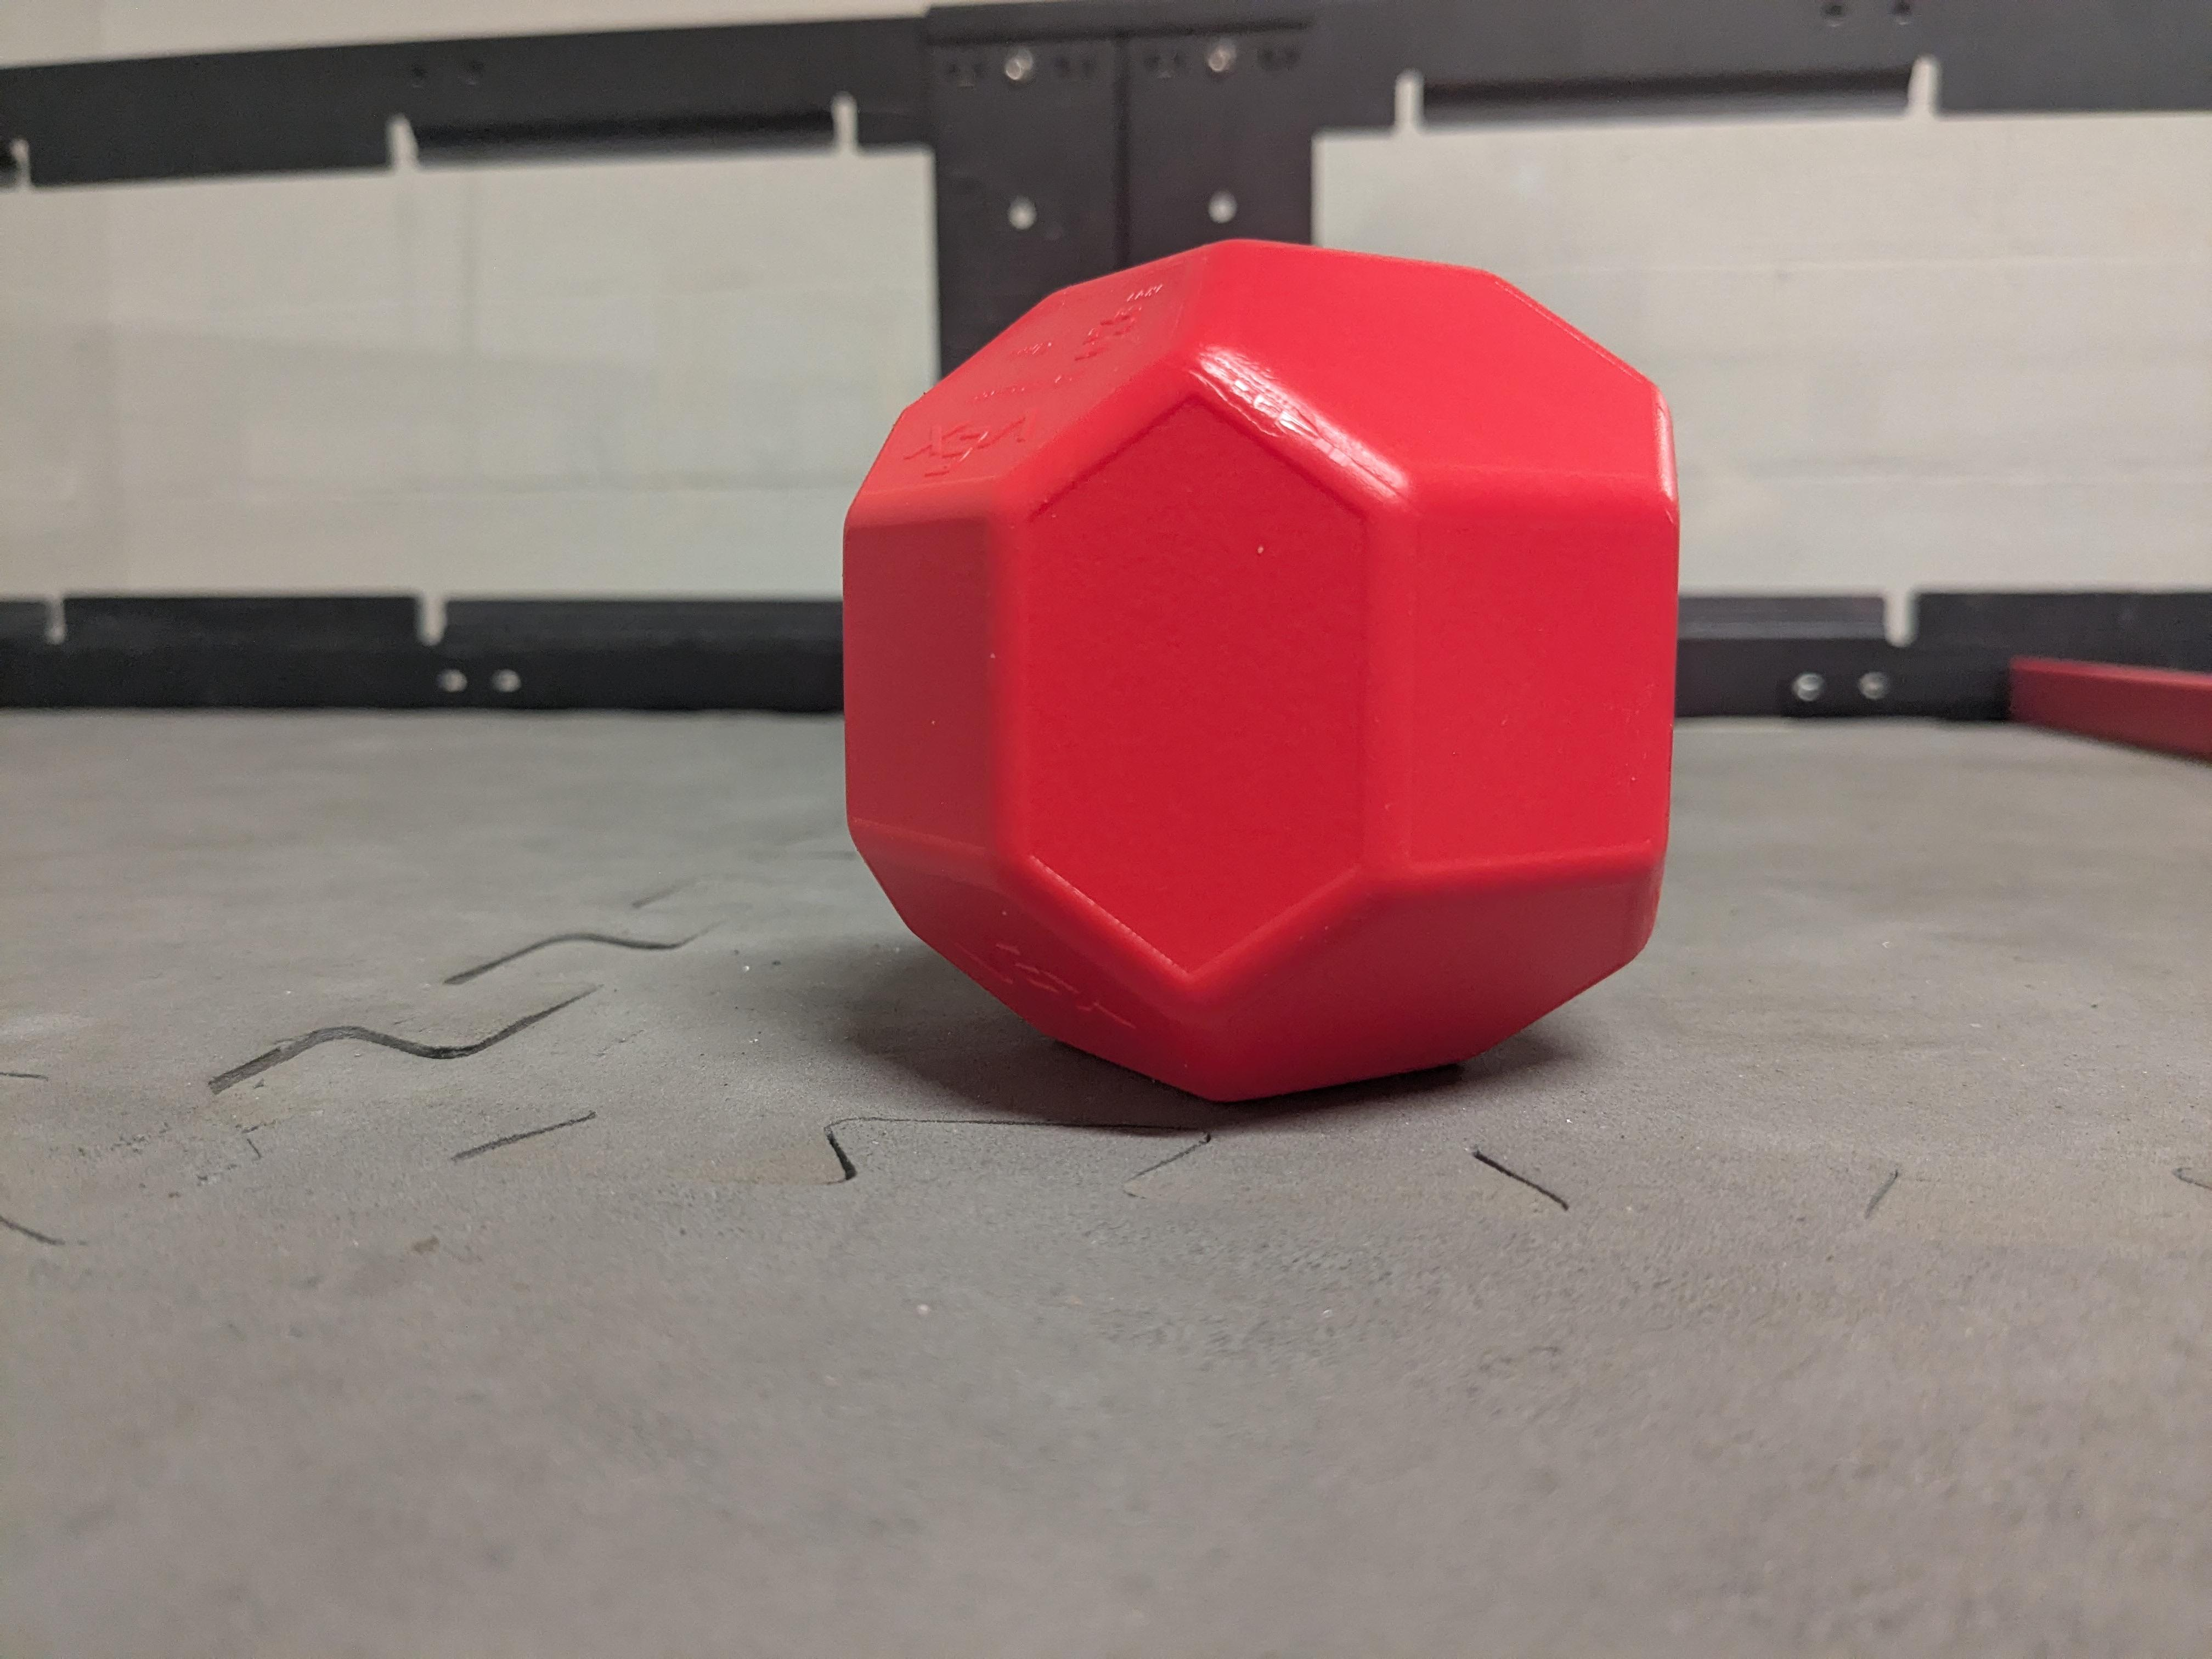Vex-Pieces-RED: (853, 240, 1683, 1108)
